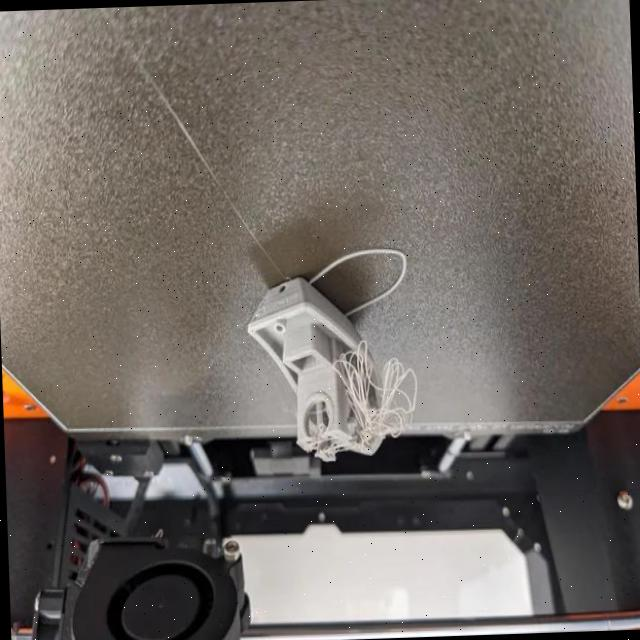spaghetti: (341, 342, 418, 440)
